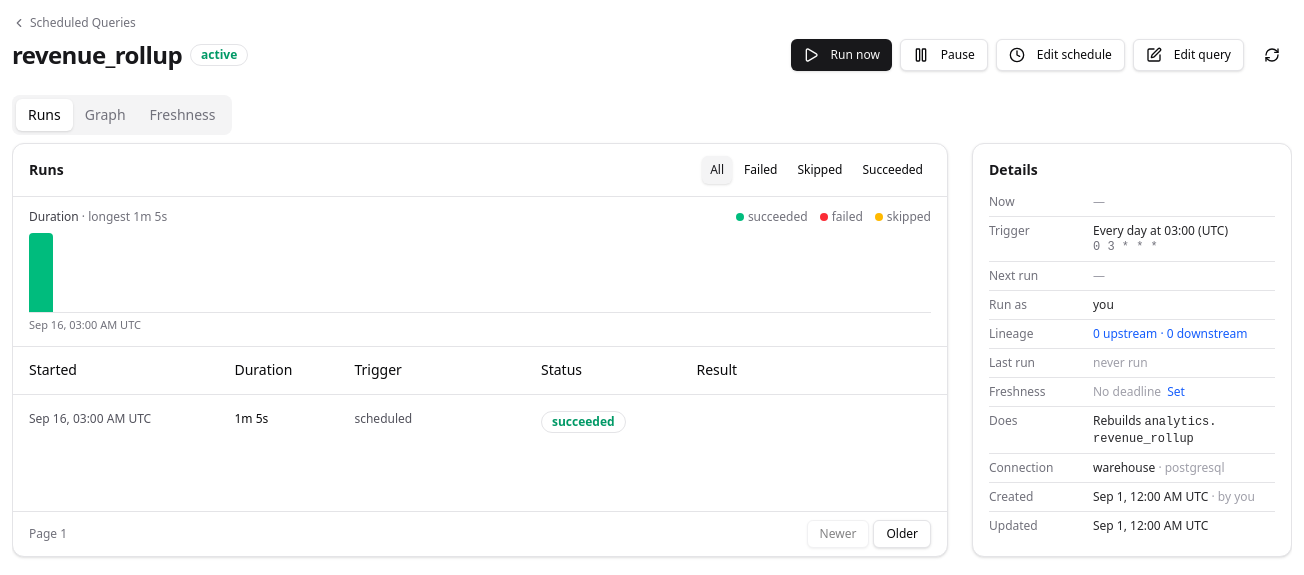
Test case: per-model schedule page › sends the status filter and starts it from the newest run
Click the button "Older": click(902, 534) [873, 520, 931, 548]
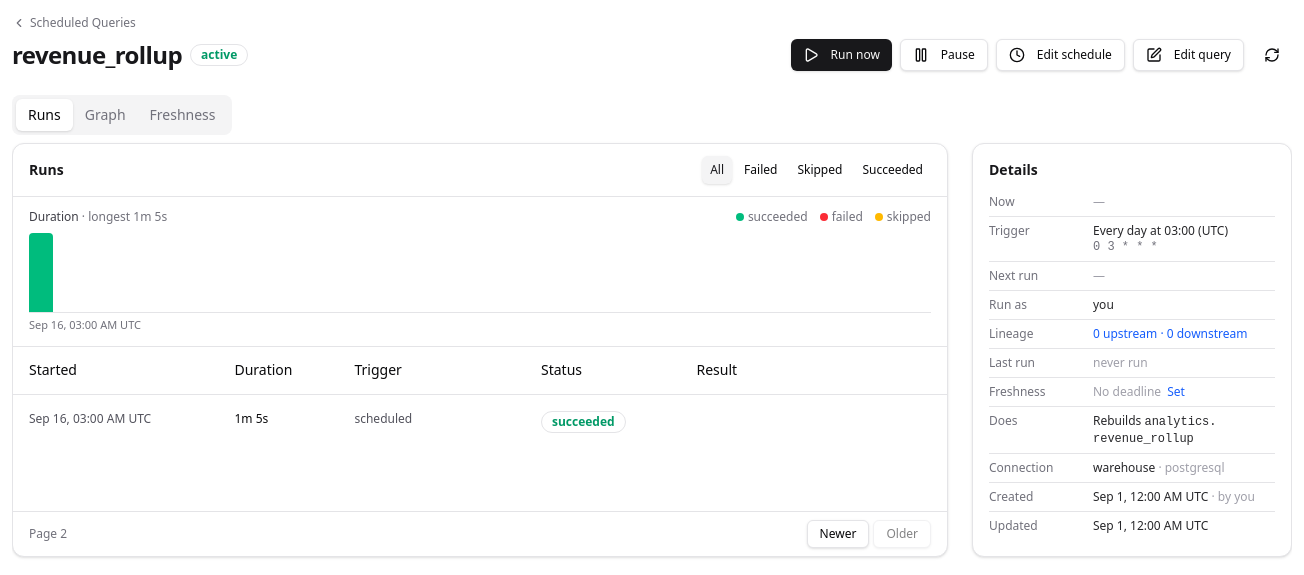
Expected: the text "Page 2" is shown, [29, 526, 67, 542]
Click the button "Failed": click(761, 170) [736, 156, 785, 184]
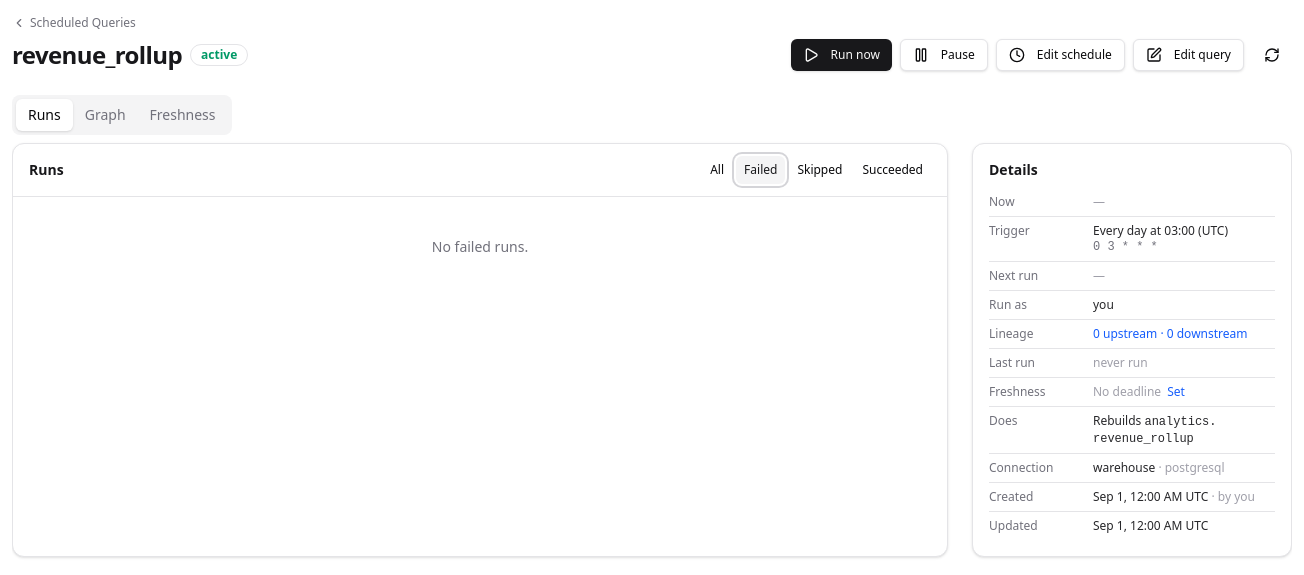
Expected: the text "No failed runs." is shown, [432, 237, 528, 256]
